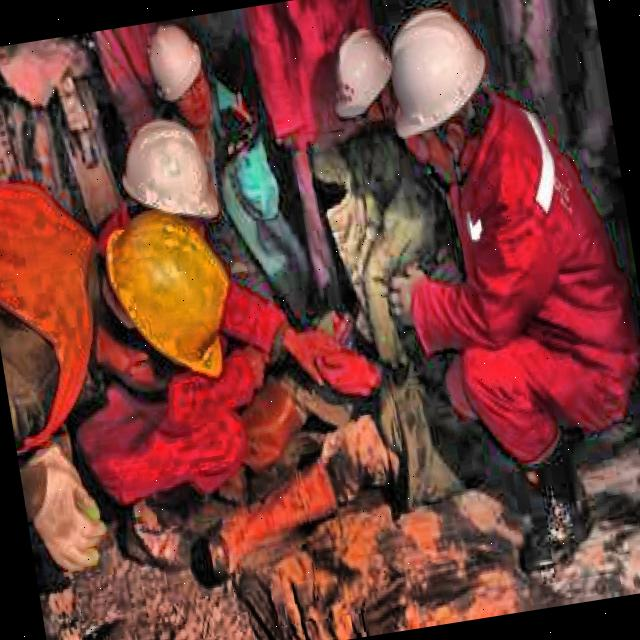helmet: (74, 180, 254, 422), (370, 0, 503, 183), (108, 104, 234, 258), (320, 22, 406, 138), (141, 20, 213, 126)
